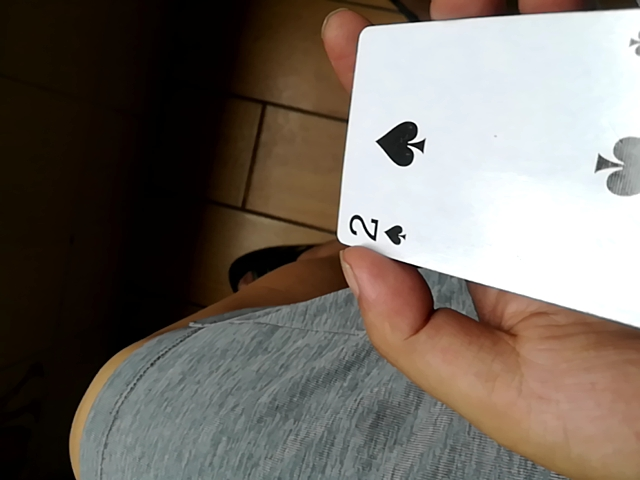ht 2: (333, 9, 640, 342)
